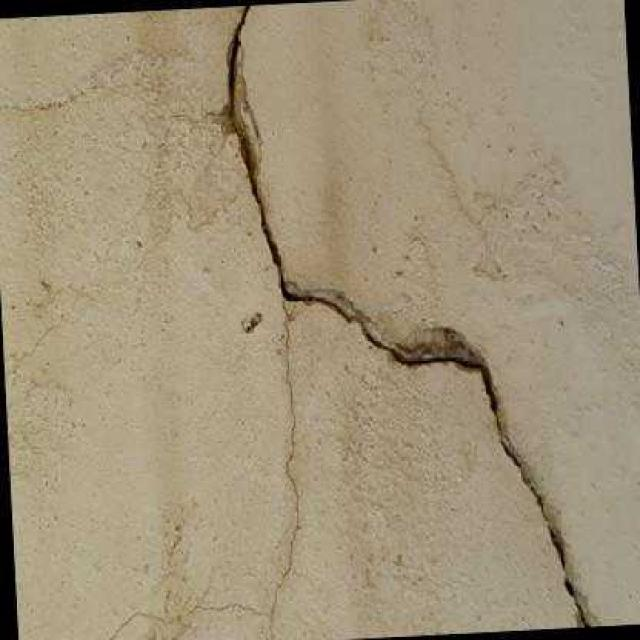D00: (223, 3, 590, 627), (100, 304, 300, 640)
